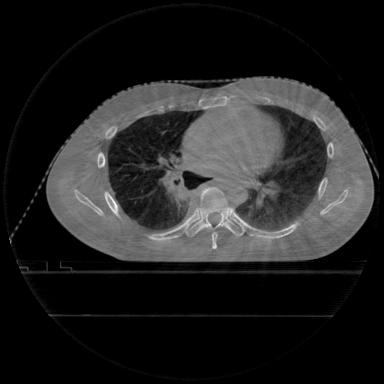body: (43, 76, 374, 262)
cord: (148, 188, 298, 240)
paru kanan: (110, 111, 203, 228)
paru kiri: (236, 106, 326, 230)
